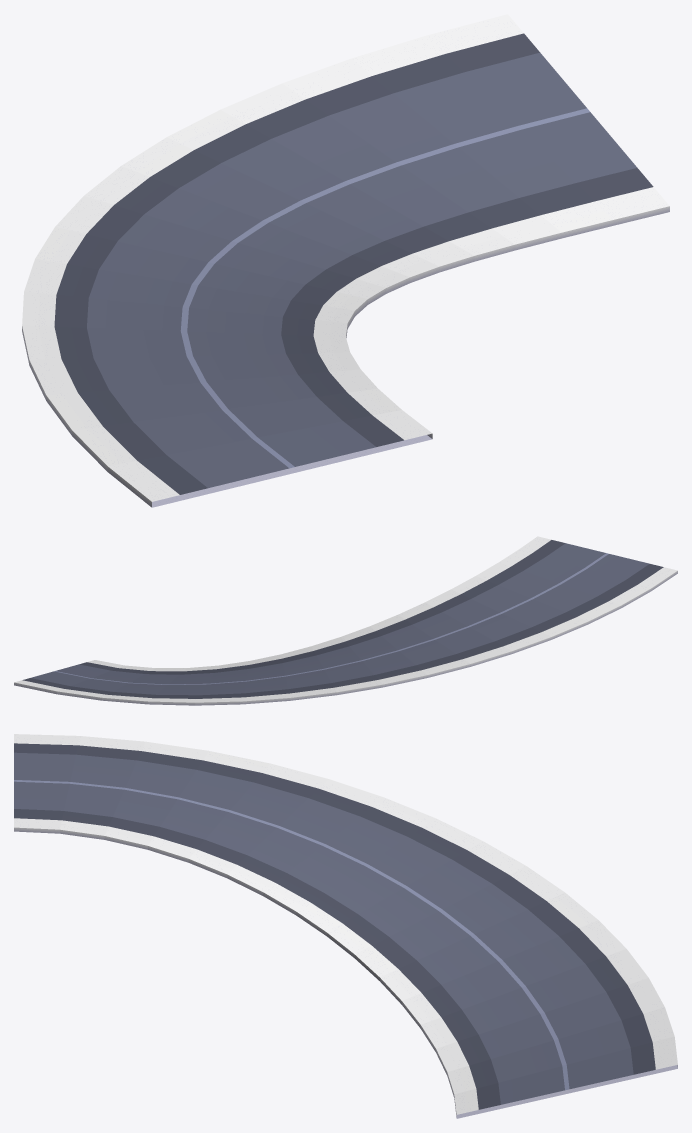
The model's file is road-Turn-Flat-HalfBankedRight-Down2-Right-Size3.glb.
The picture shows the model from 3 angles, top to bottom: view 1: azimuth 30°, elevation 25°; view 2: azimuth 150°, elevation 25°; view 3: azimuth 270°, elevation 25°; orthographic projection. The views are drawn at different scales.
Parts seen in each view (by area): view 1: road-Turn-Flat-HalfBankedRight-Down2-Right-Size3; view 2: road-Turn-Flat-HalfBankedRight-Down2-Right-Size3; view 3: road-Turn-Flat-HalfBankedRight-Down2-Right-Size3.
Part boxes in pixels (box(x1,y1,x2,y2)): road-Turn-Flat-HalfBankedRight-Down2-Right-Size3: box(22, 14, 669, 507); road-Turn-Flat-HalfBankedRight-Down2-Right-Size3: box(14, 536, 677, 705); road-Turn-Flat-HalfBankedRight-Down2-Right-Size3: box(14, 734, 677, 1118).
Bounding box in the file's own units: 3 × 0.52 × 3.
Materials: 1 (1 with a texture image).
